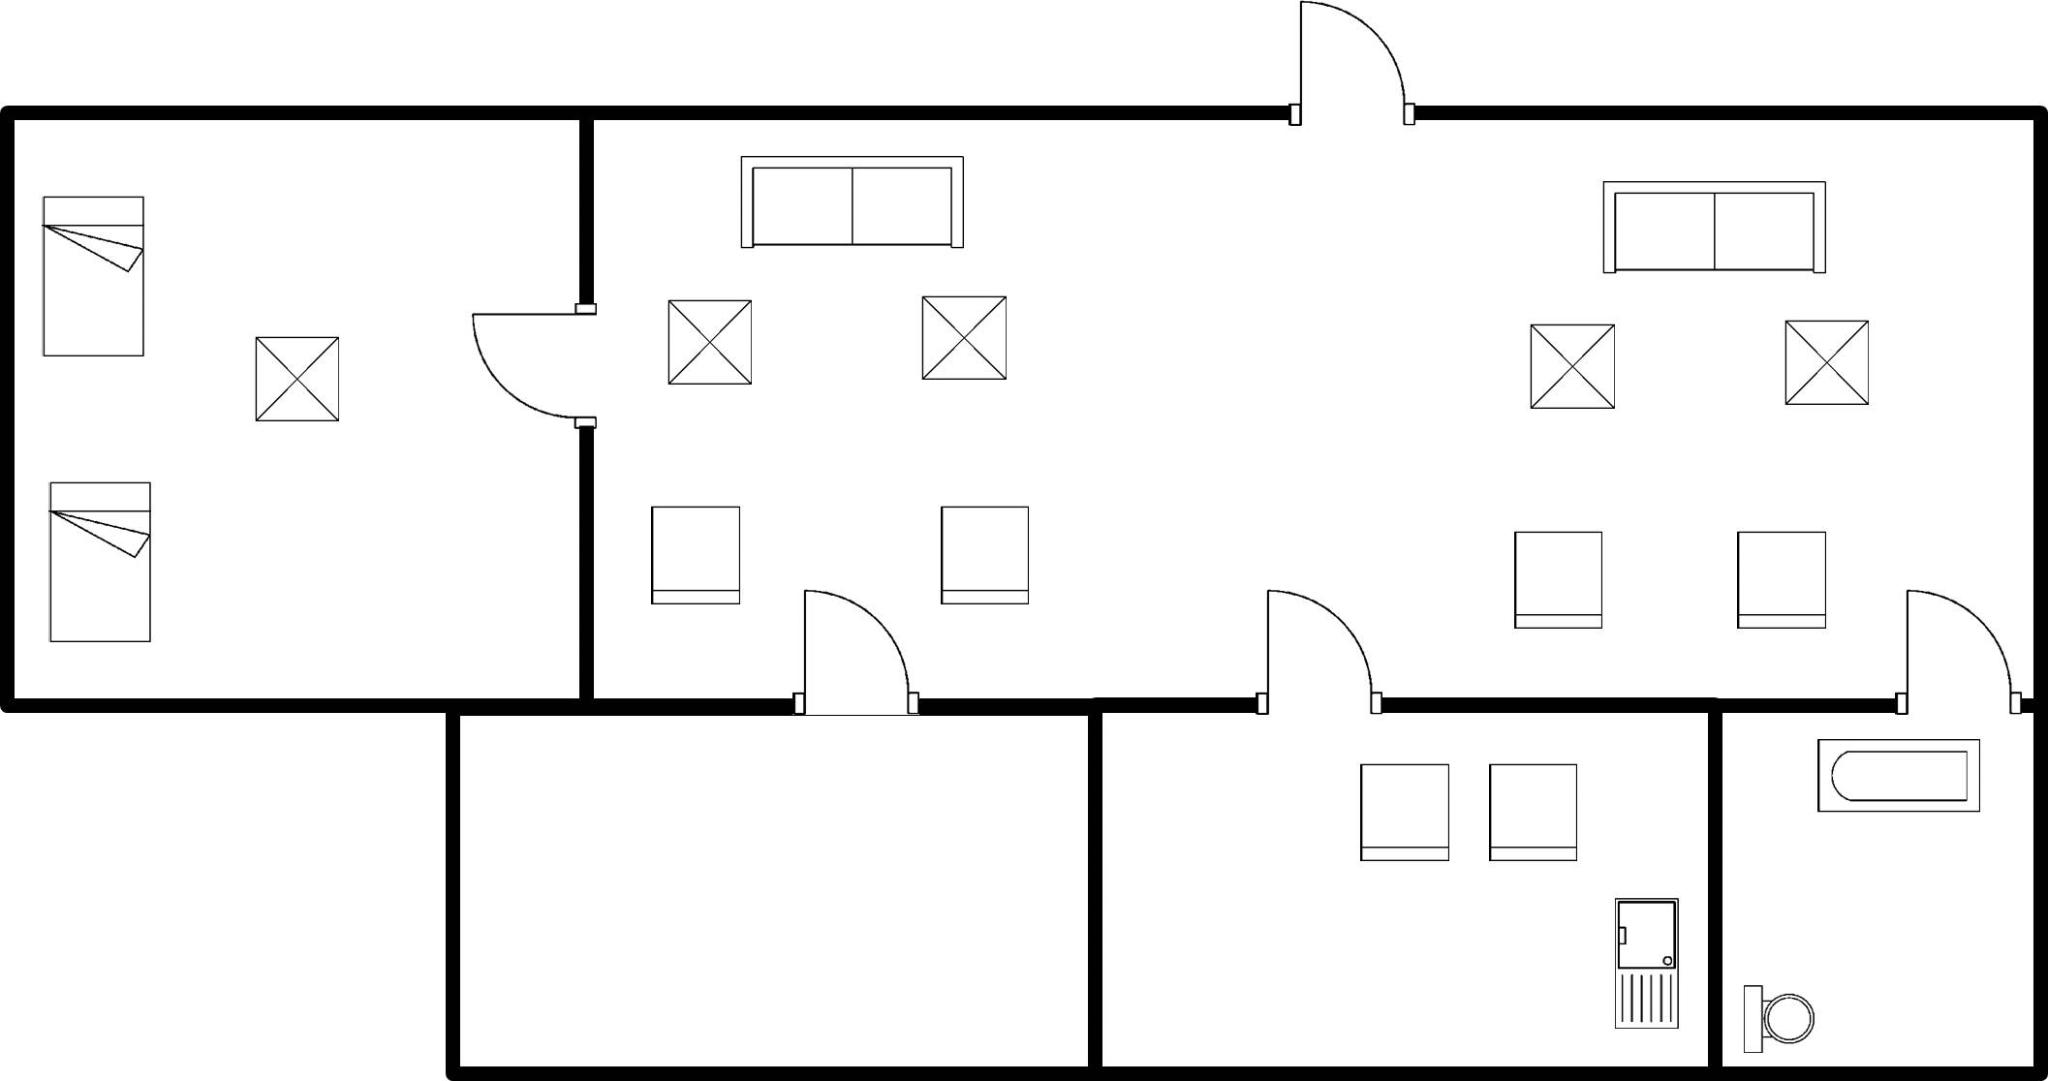bed: (34, 471, 163, 654), (28, 187, 153, 368)
sink: (1605, 889, 1692, 1042)
sofa: (1592, 168, 1839, 284), (733, 144, 974, 260)
toilet: (1735, 975, 1816, 1061)
tub: (1803, 729, 1988, 825)
